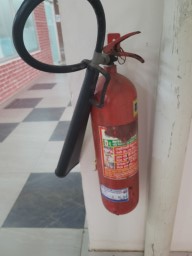fire_extinguisher: (48, 70, 162, 136)
